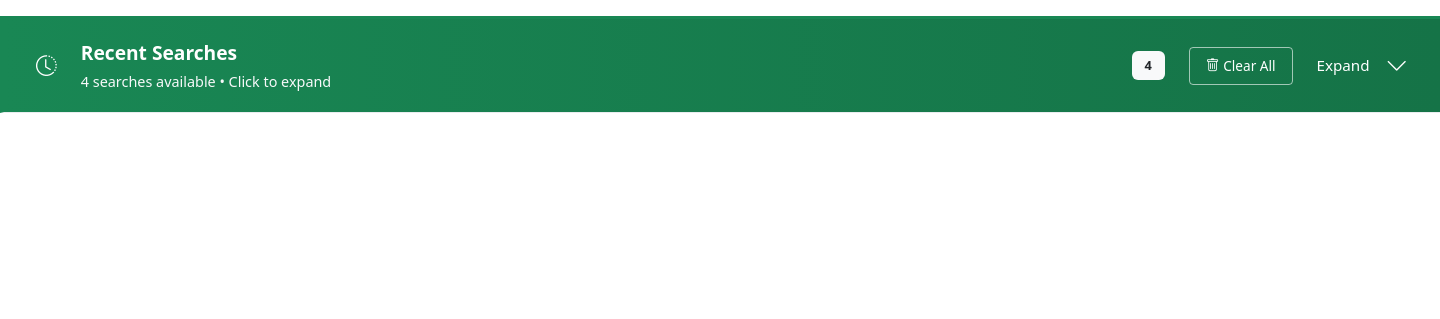
Test: BreadcrumbsSection › Navigation › navigates back to previous page when previous button is clicked
Click the text "Recent Searches" at [159, 52], box [81,39,237,66]
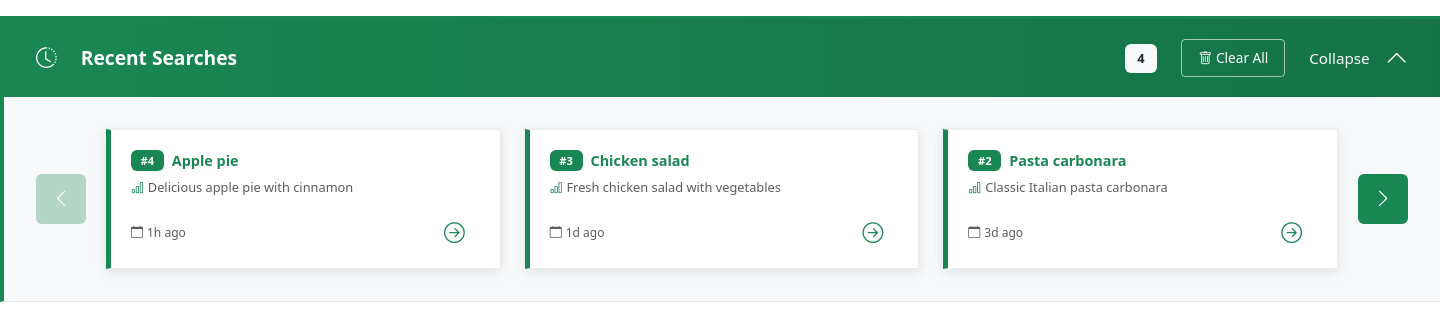
# Go to next page first
Click the button with class "bi-chevron-right" at [1383, 199], box [1358,174,1408,224]
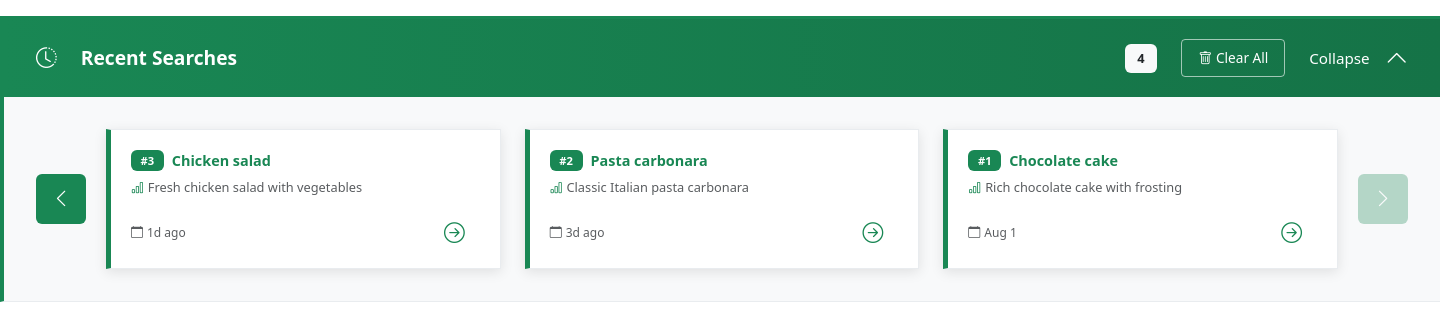
# Then go back to previous page
Click the button with class "bi-chevron-left" at [61, 199], box [36,174,86,224]
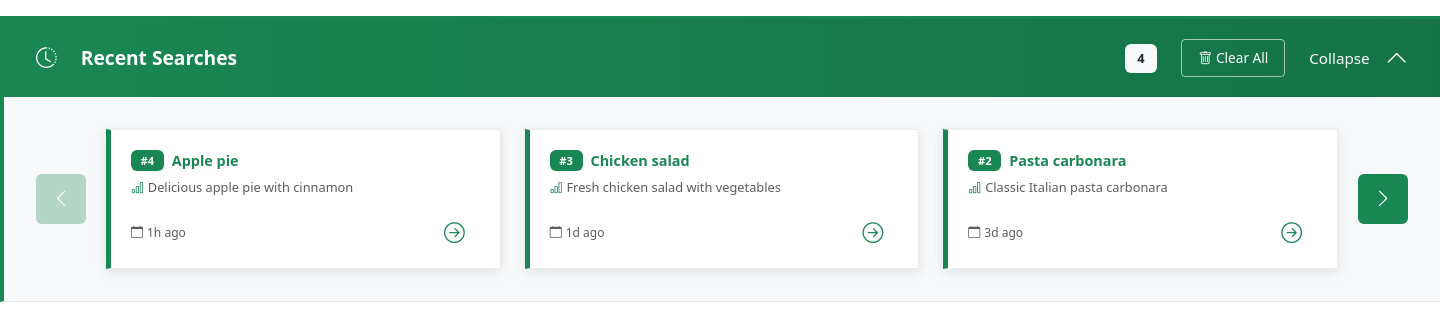
Now the text "Delicious apple pie with cinnamon" is shown, box [131,178,353,196]
Now the heading "Chocolate cake" is gone
